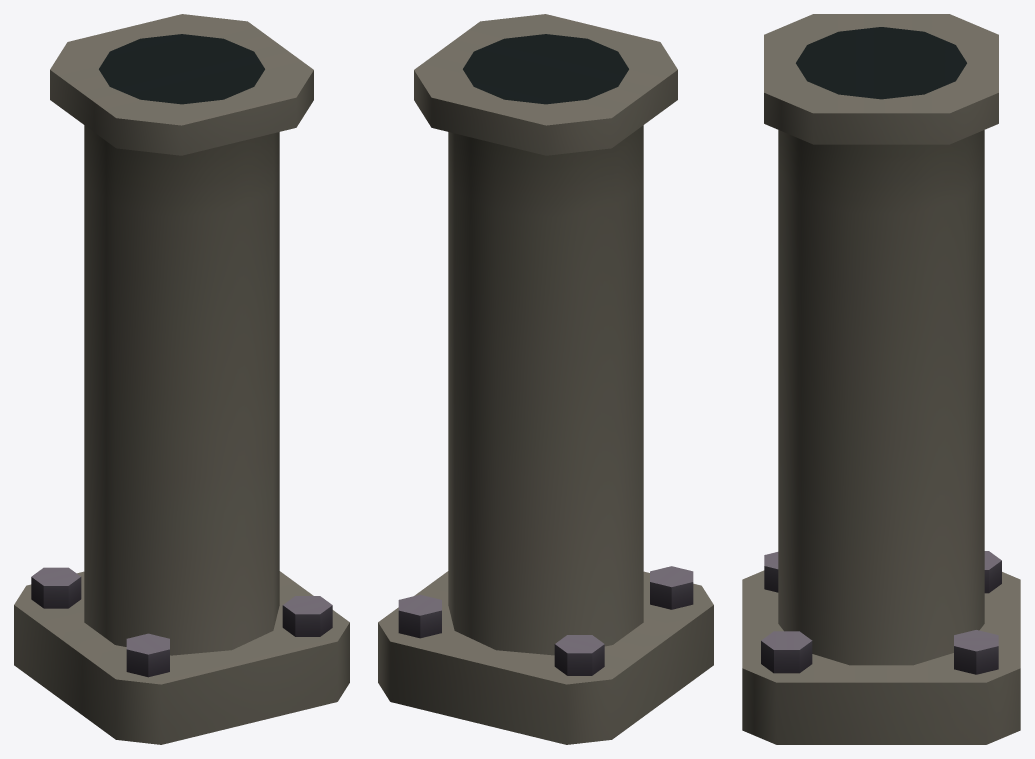
The model's file is Pipe_1C.fbx.
The picture shows the model from 3 angles, left to right: view 1: azimuth 30°, elevation 25°; view 2: azimuth 150°, elevation 25°; view 3: azimuth 270°, elevation 25°; orthographic projection. The views are drawn at different scales.
Visible parts, largest first — view 1: Pipe_1C; view 2: Pipe_1C; view 3: Pipe_1C.
Boxes of the visible parts, <box> form: Pipe_1C: <box>14,14,349,744</box>; Pipe_1C: <box>378,14,713,744</box>; Pipe_1C: <box>742,14,1020,744</box>.
Size of the model in its own units: 1.62 by 4 by 1.62.
